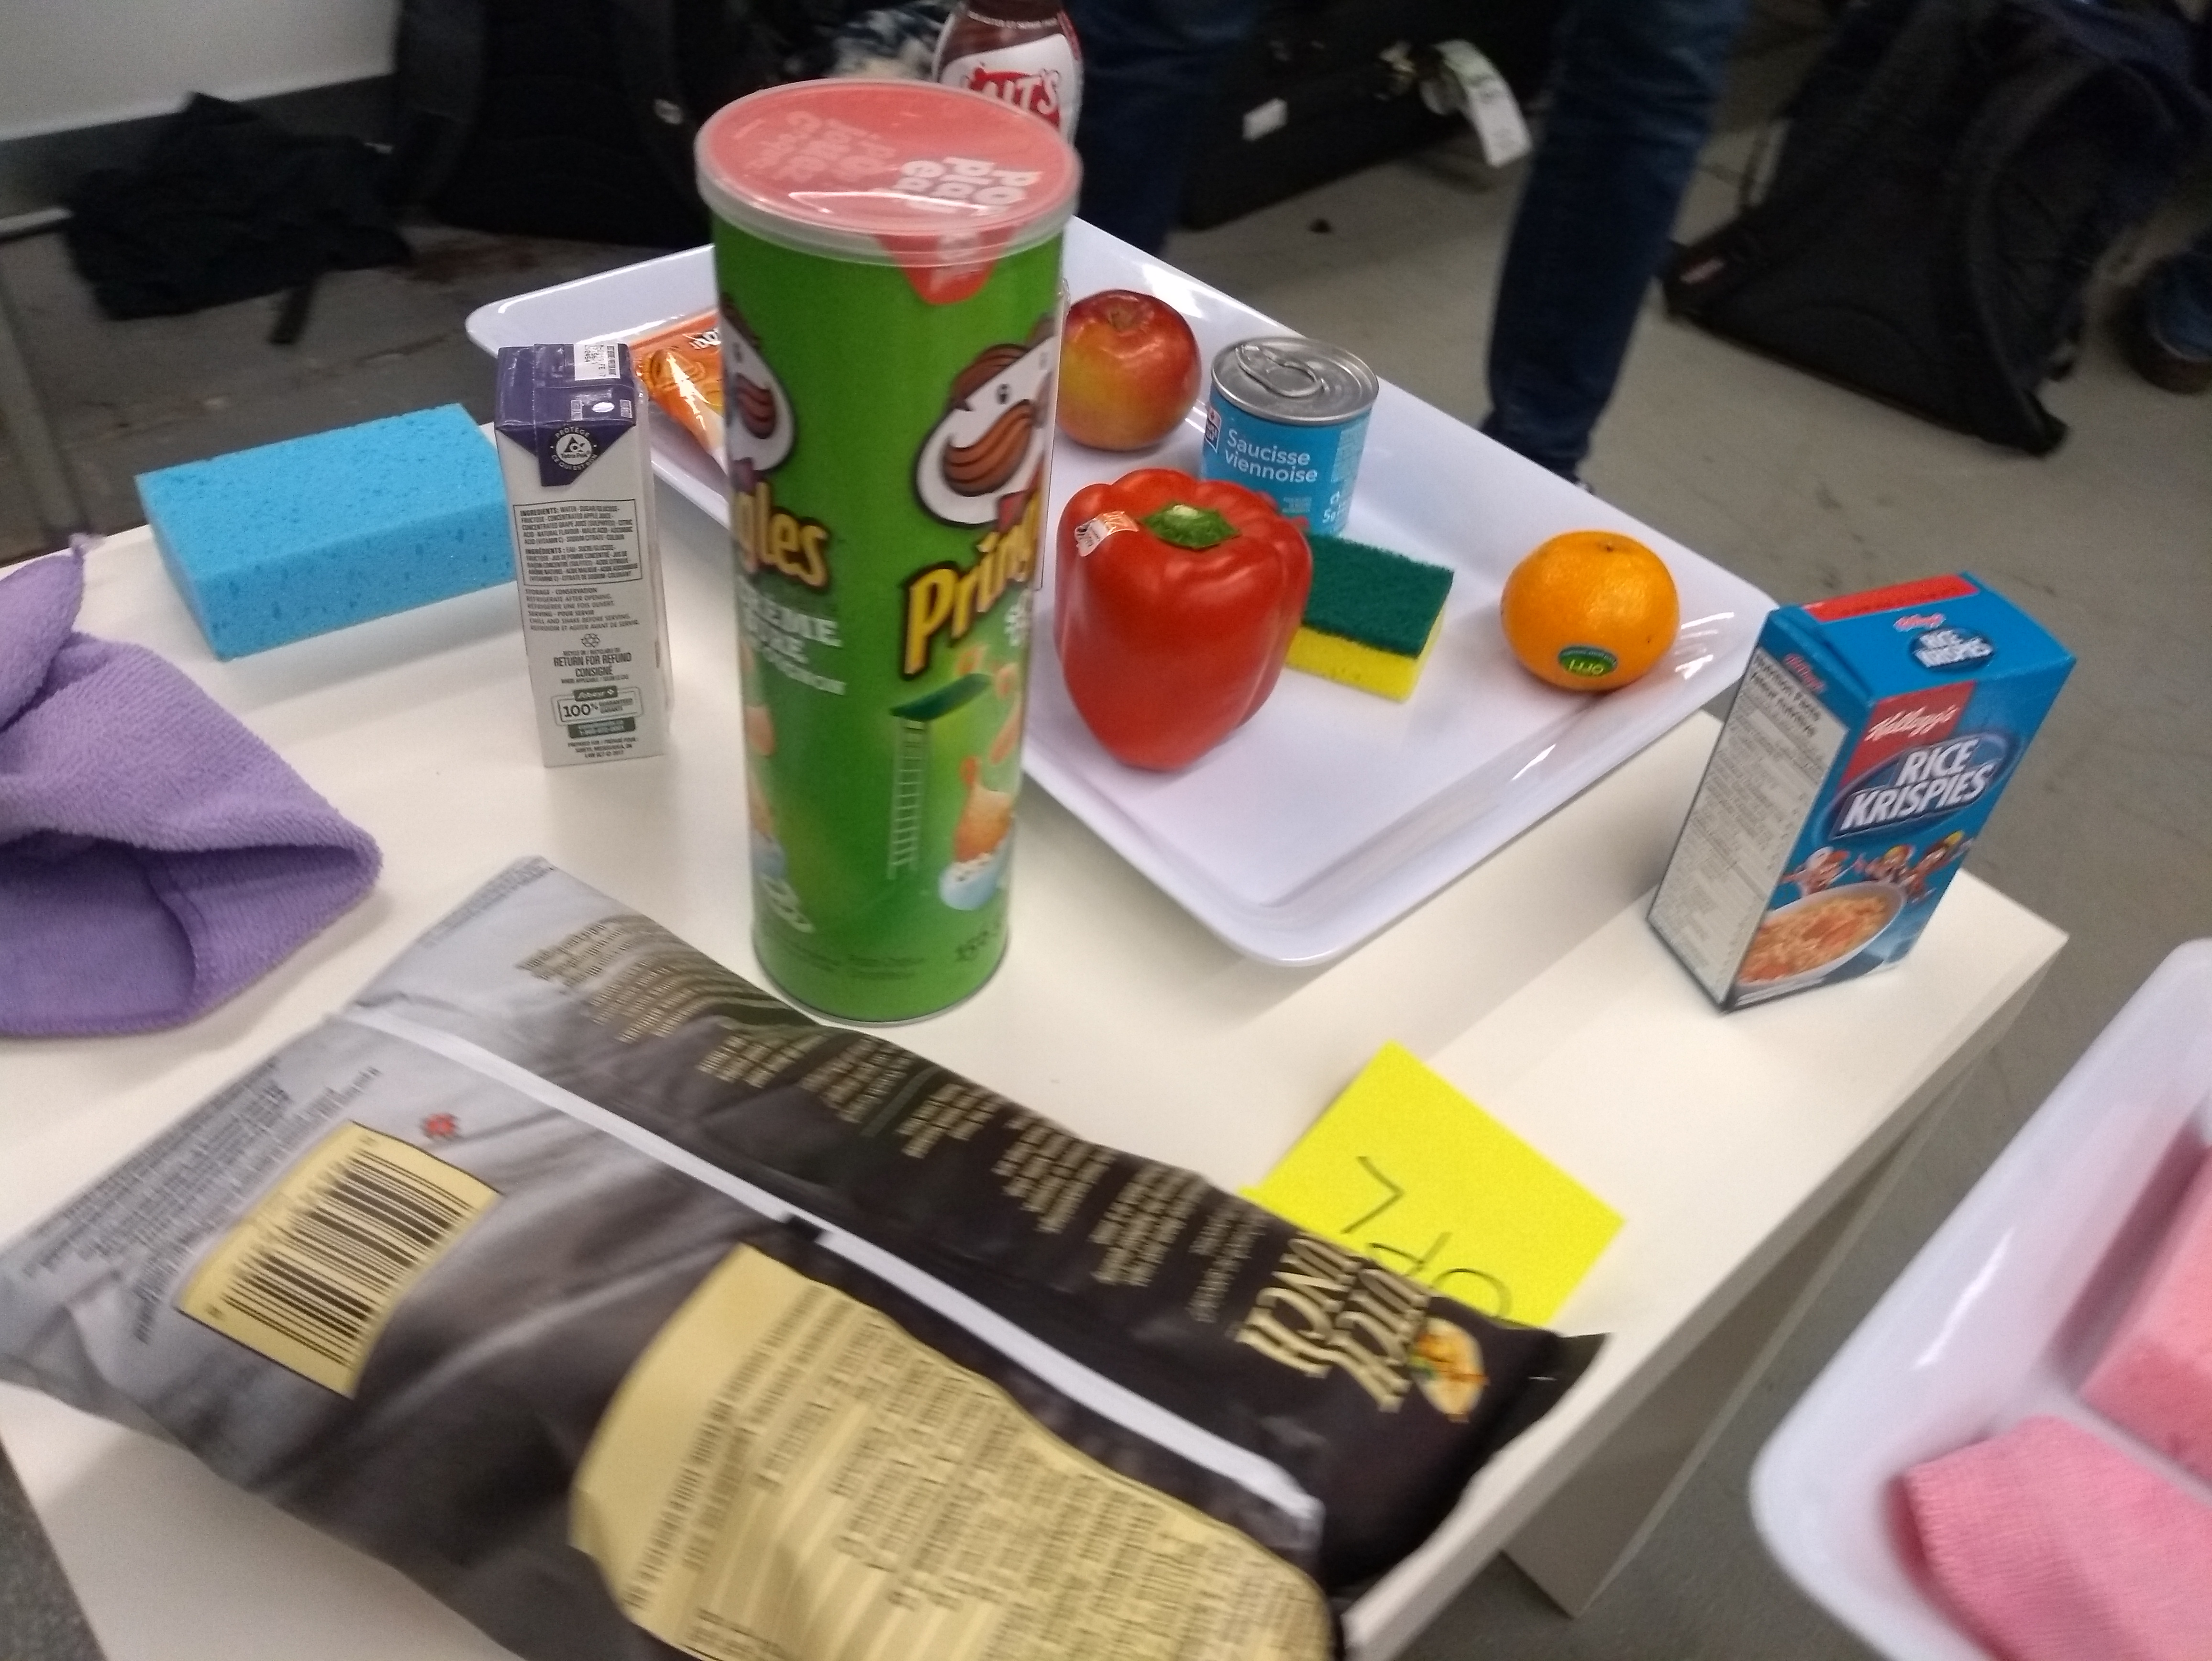apple: (1057, 288, 1211, 461)
cereal: (1636, 569, 2081, 1022)
cloth_opl: (0, 543, 375, 1024)
grape_juice: (481, 330, 698, 778)
orange: (1495, 525, 1697, 705)
paprika: (1062, 469, 1307, 782)
potato_chips: (59, 895, 1528, 1661)
pringles: (682, 70, 1075, 1047)
sausages: (1200, 335, 1378, 544)
scrubby: (1286, 529, 1457, 708)
sponge_opl: (138, 398, 522, 660)
